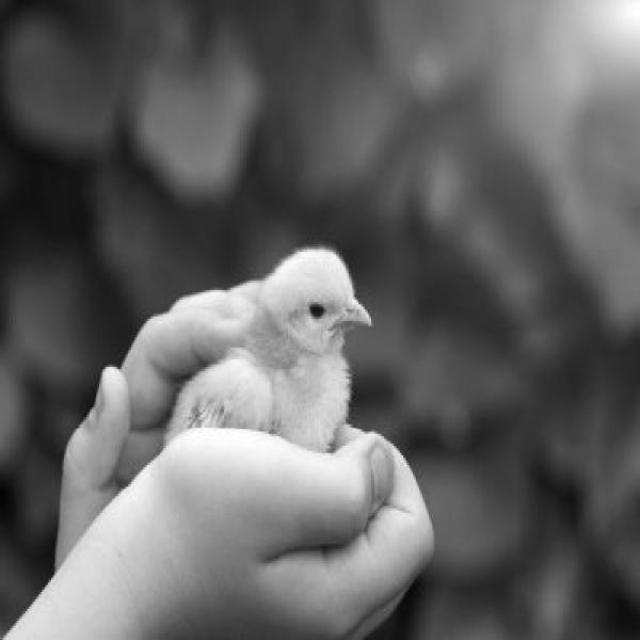poussin: (150, 247, 378, 452)
